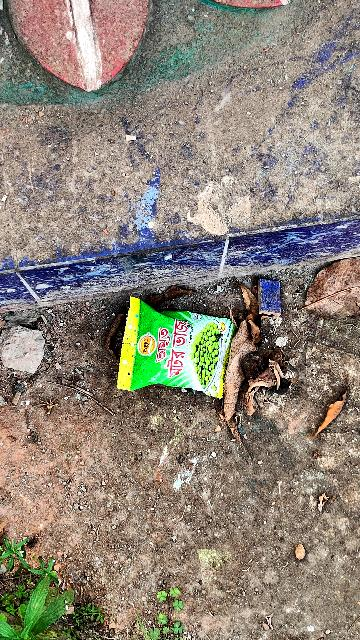packet: (114, 300, 236, 405)
